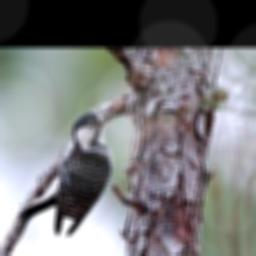Woodpecker: (18, 107, 118, 236)
